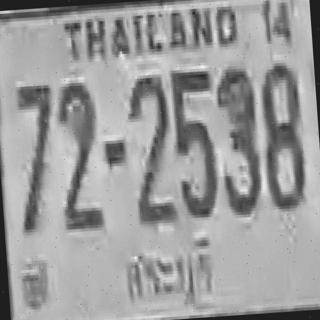N02: (126, 73, 174, 224), (54, 78, 102, 228)
N03: (214, 65, 261, 213)
N05: (168, 65, 218, 216)
N07: (13, 82, 59, 230)
N08: (257, 59, 306, 207)
P60: (120, 228, 224, 316)
